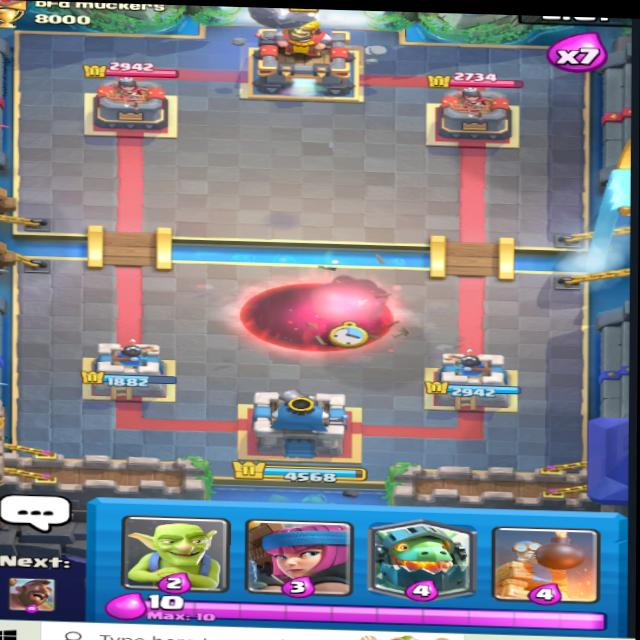rocket: (234, 7, 329, 40)
void: (240, 275, 394, 353)
